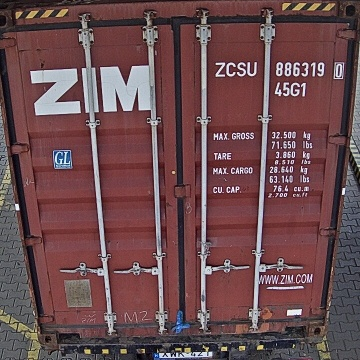serial_id: (215, 62, 344, 77)
